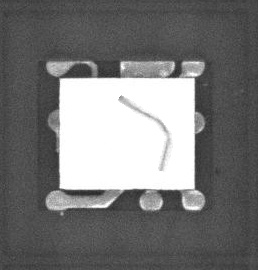DIE_INK: (113, 99, 164, 179)
